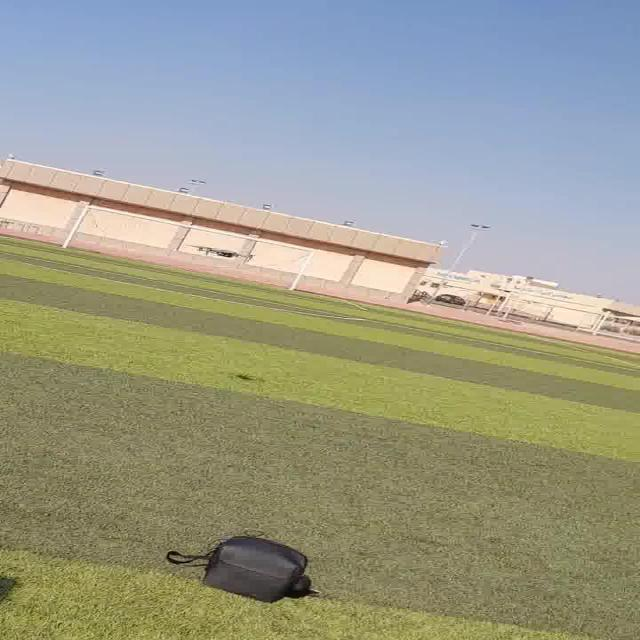drone: (184, 238, 260, 266)
